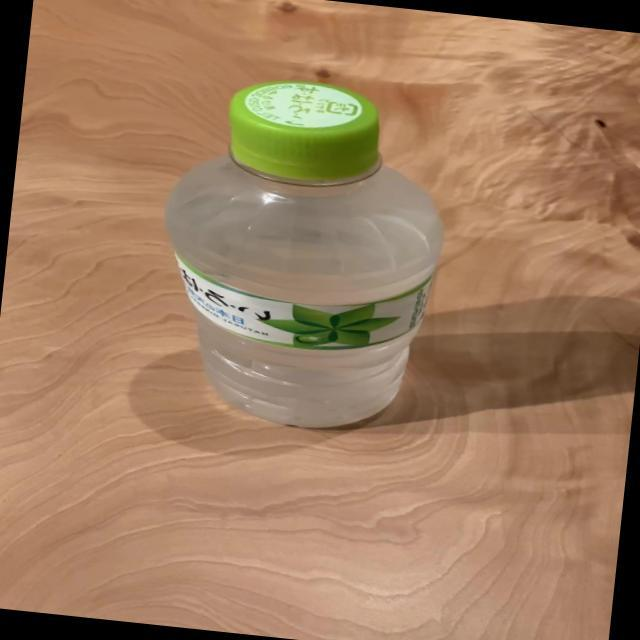good: (143, 64, 462, 442)
